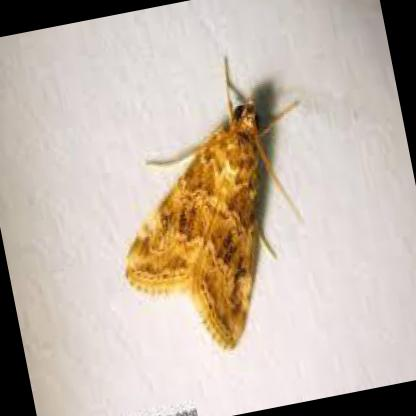Hellula undalis: (121, 50, 311, 352)
